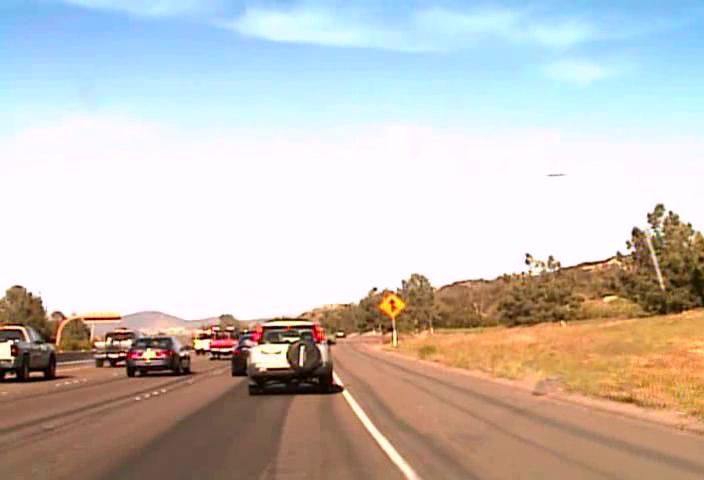merge: (377, 291, 406, 318)
